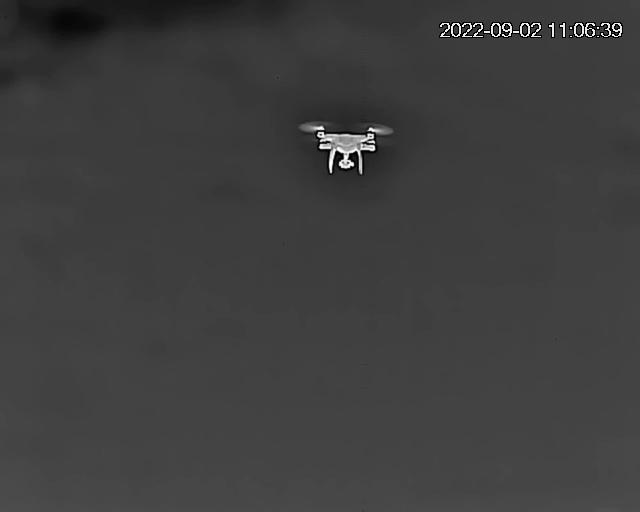DJI-Phantom: (305, 118, 393, 175)
